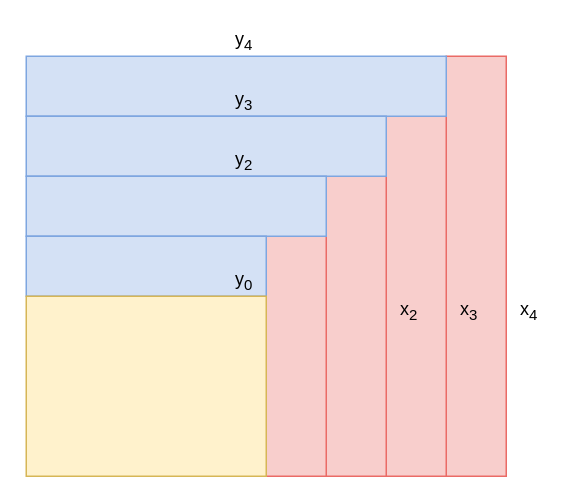
This 578x503 diagram has some shape labels left out. Here are the shapes that lost their labels. From the top down, the centre of each, then its label:
At point 175,205: "y 1".
At point 355,325: "x 1".
At point 295,355: "x 0".
